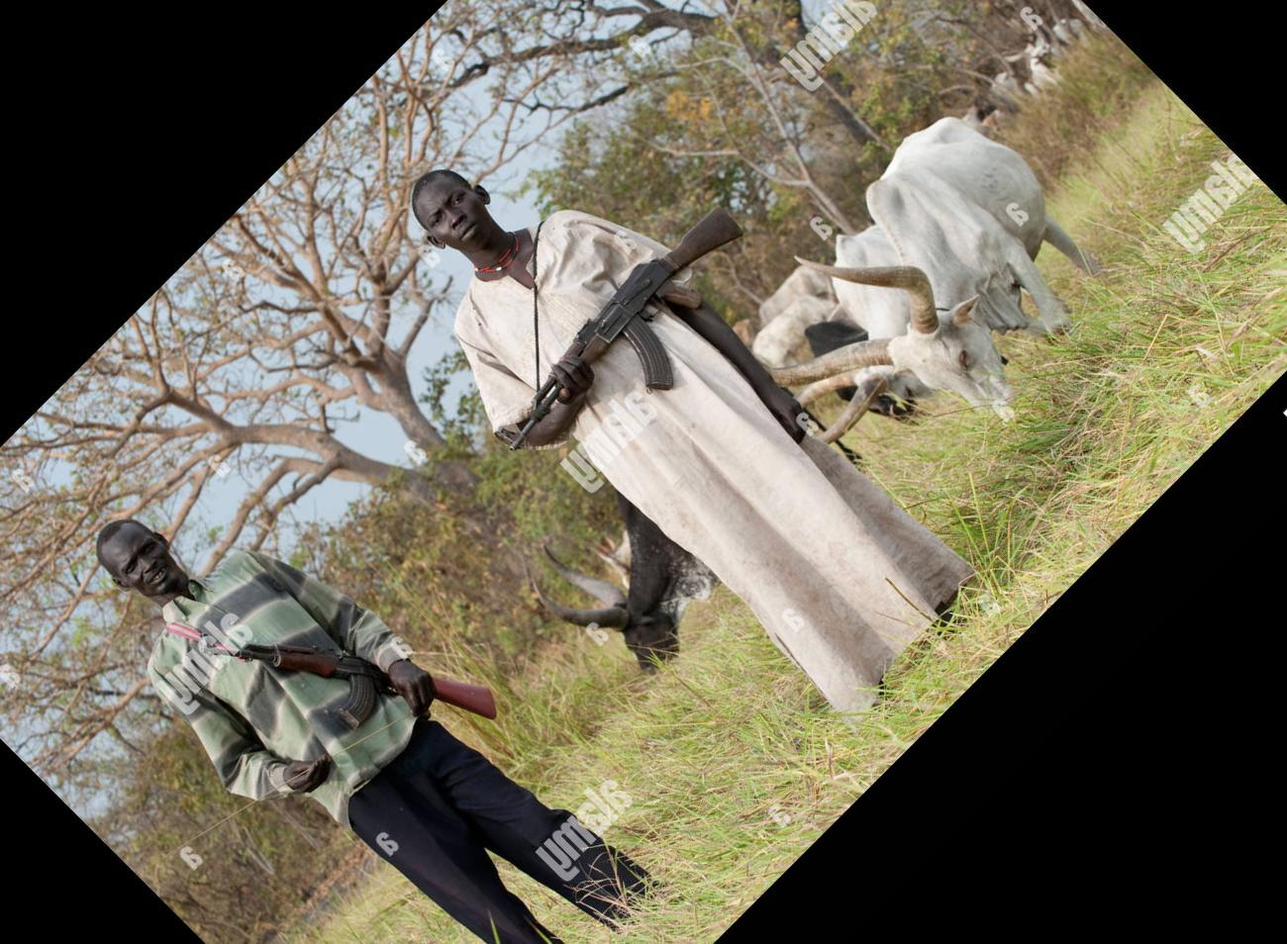larga: (507, 206, 747, 453), (232, 642, 499, 732)
